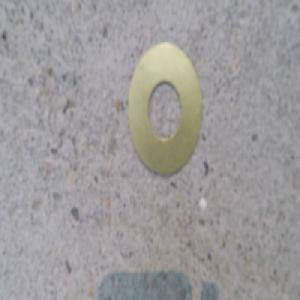Washer: (120, 42, 199, 181)
